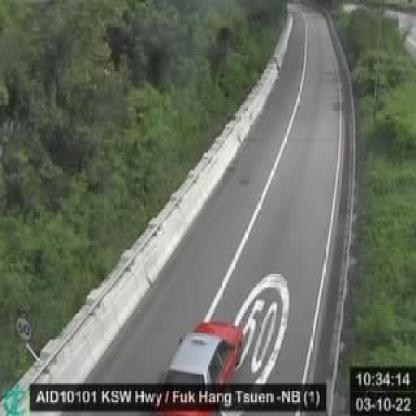Car: (156, 320, 242, 413)
